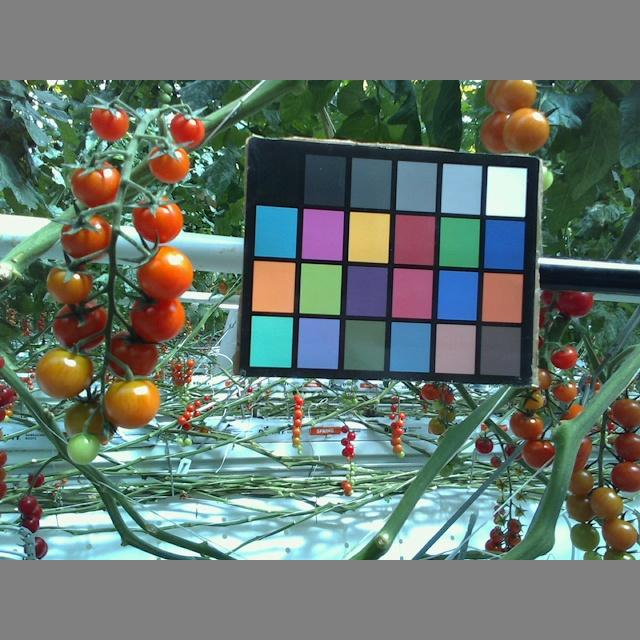green: (66, 431, 99, 466), (570, 523, 603, 550)
pink: (101, 379, 159, 429), (34, 349, 91, 399), (64, 399, 120, 446), (503, 107, 551, 155), (47, 264, 94, 303), (492, 82, 539, 116), (597, 518, 640, 551), (518, 437, 558, 471), (508, 406, 545, 439), (590, 484, 623, 520), (609, 462, 640, 491), (615, 430, 640, 464), (613, 399, 640, 430), (552, 378, 579, 402), (520, 388, 543, 408)
red: (136, 246, 196, 299), (50, 302, 108, 354), (68, 160, 123, 209), (128, 293, 184, 340), (132, 194, 186, 241), (107, 333, 163, 378), (60, 215, 111, 263), (148, 147, 192, 184), (166, 111, 207, 148), (90, 105, 130, 140), (556, 282, 596, 317), (552, 346, 579, 370)
